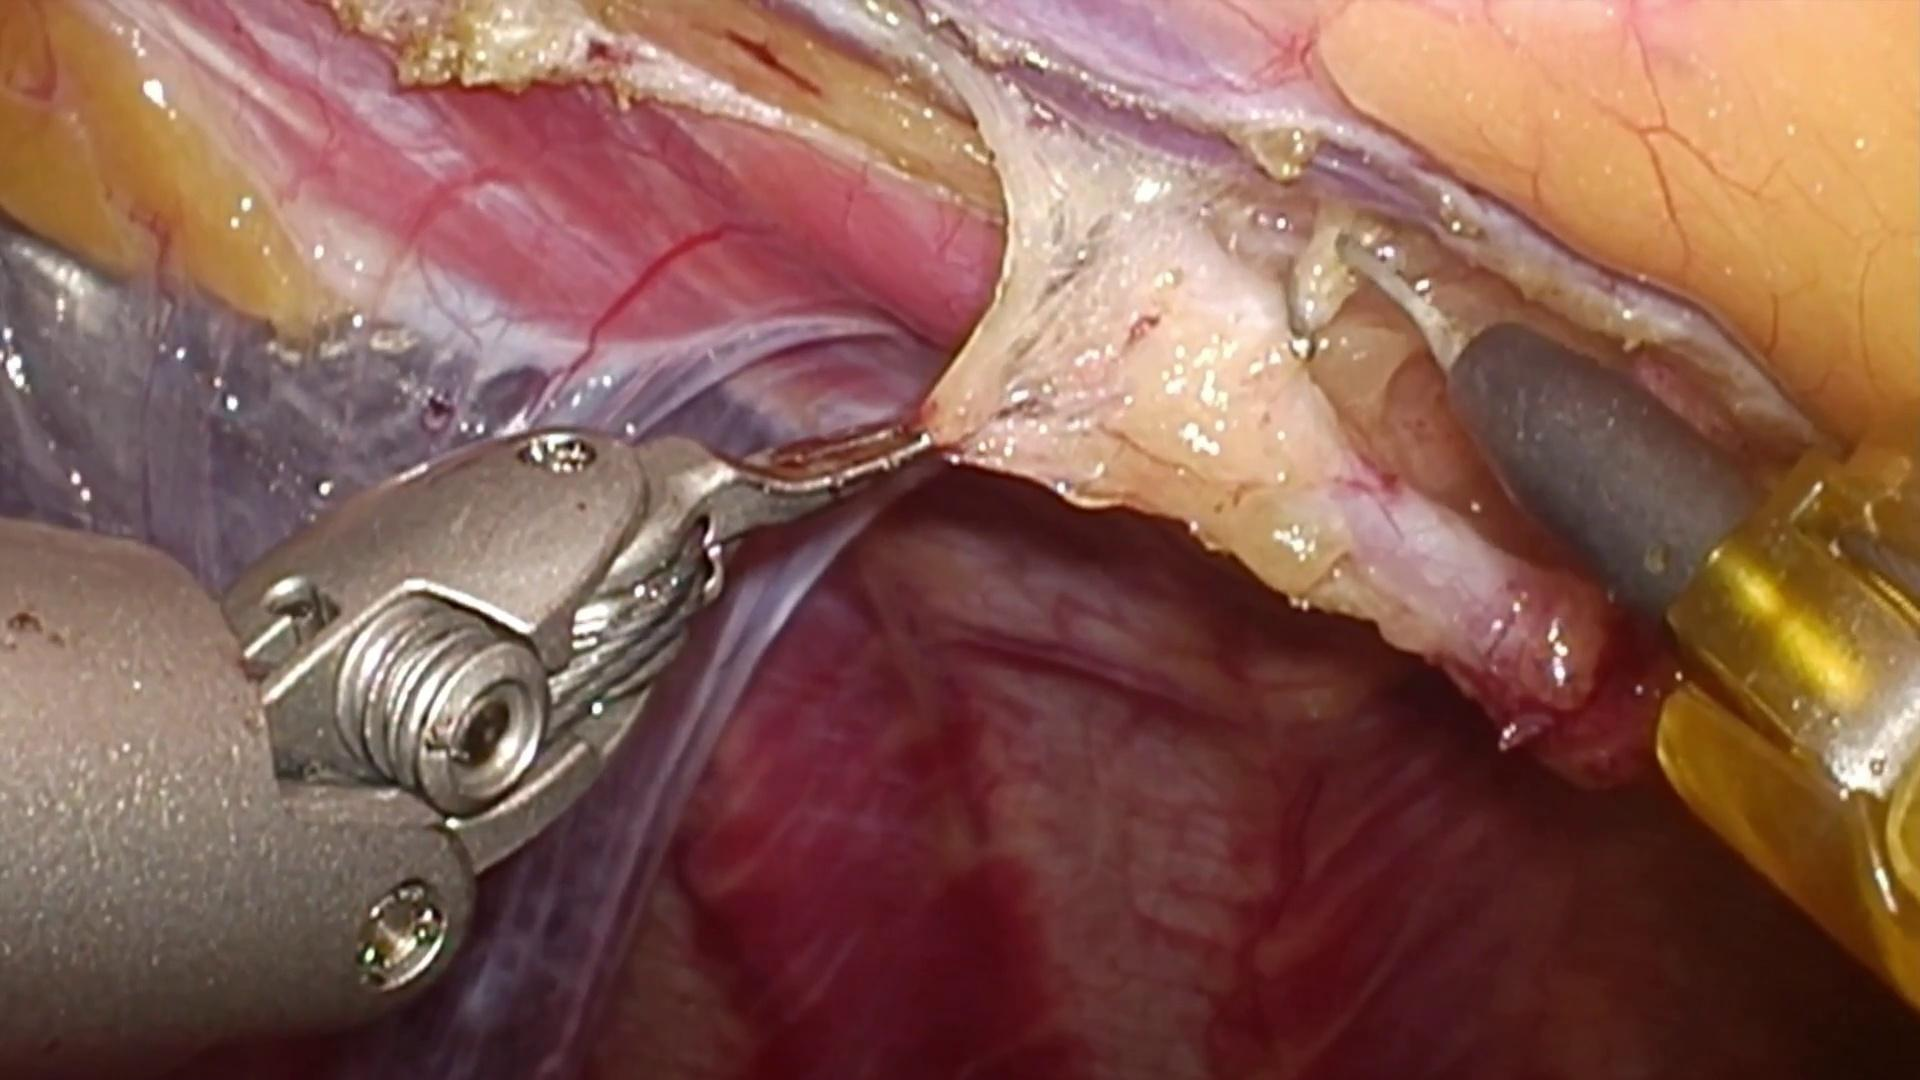Cautery_Spatula: (1331, 220, 1768, 621)
Debakey: (674, 363, 959, 572)
